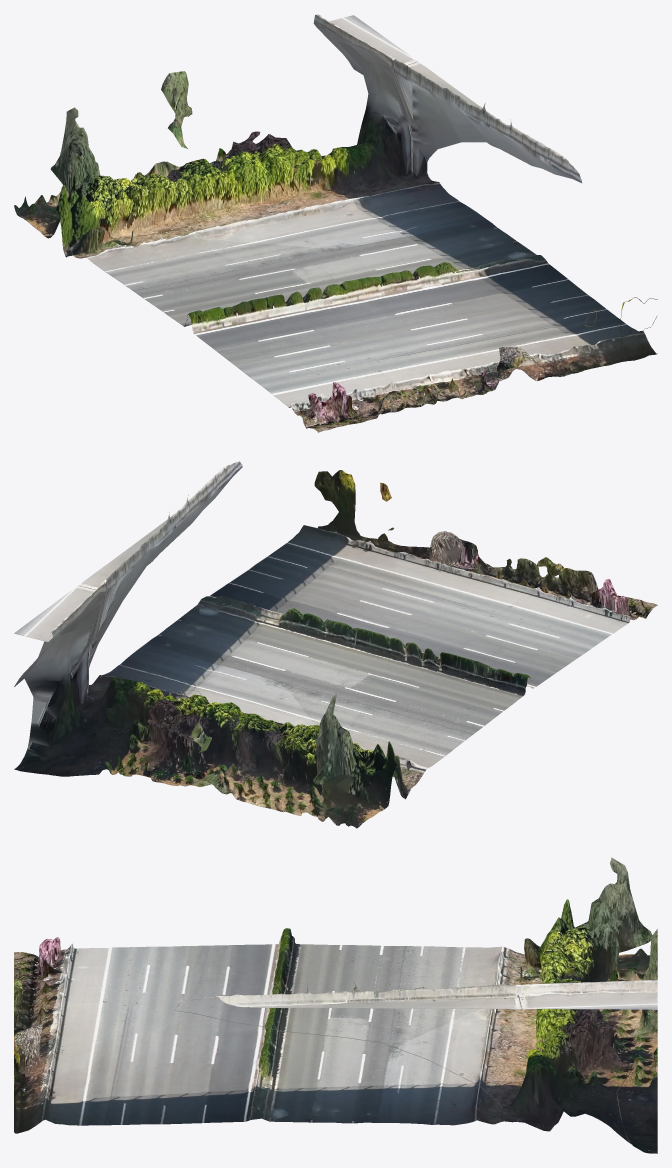
File: BlockYY_L20_304.glb
The picture shows the model from 3 angles, top to bottom: view 1: azimuth 30°, elevation 25°; view 2: azimuth 150°, elevation 25°; view 3: azimuth 270°, elevation 25°; orthographic projection. The views are drawn at different scales.
Parts seen in each view (by area): view 1: rtc; view 2: rtc; view 3: rtc.
Boxes of the visible parts, x1,y1,x2,y2 form: rtc: (14,14,657,432); rtc: (14,461,657,828); rtc: (14,857,657,1153).
Size of the model in its own units: 38.57 by 17.45 by 59.86.
Materials: 5 (5 with a texture image).
